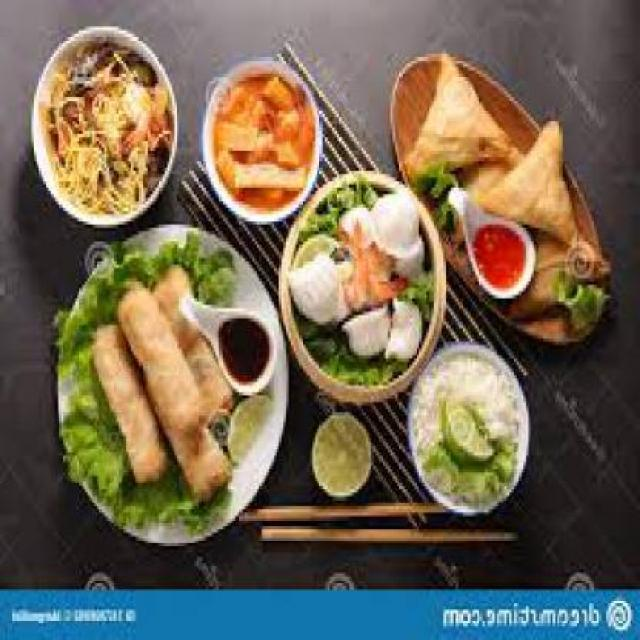dumplings: (286, 188, 429, 378)
fried rice: (417, 348, 518, 446)
samosa: (417, 40, 614, 315)
spring rolls: (101, 258, 228, 510)
